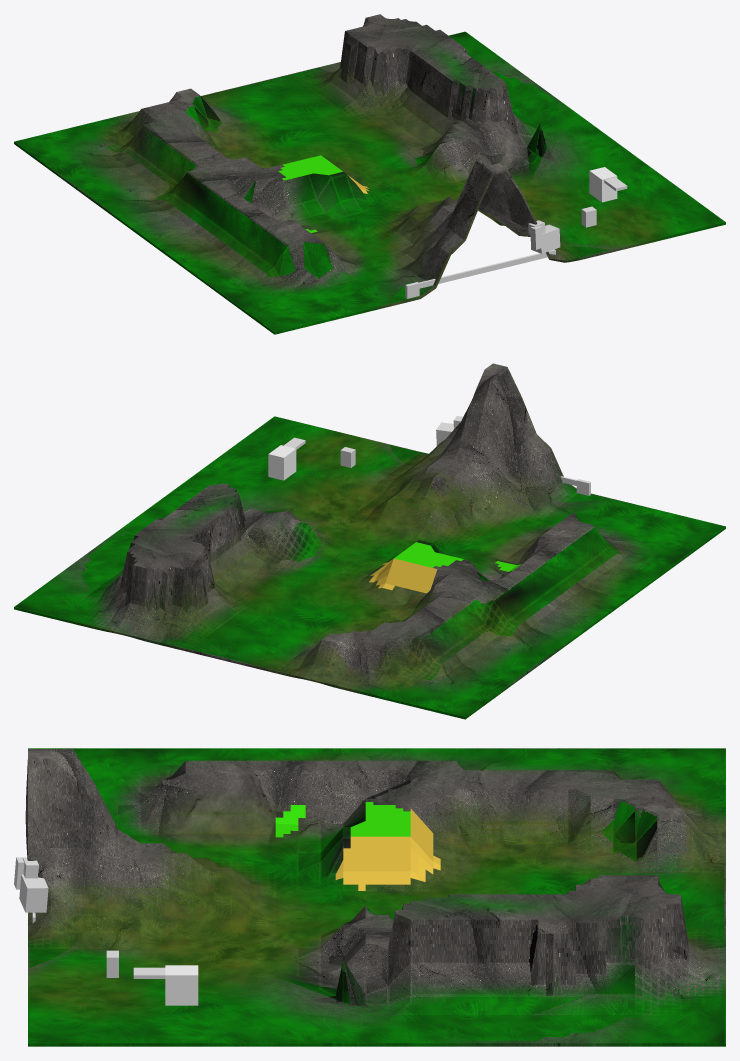
Rendered from tiktakworld.glb.
3 renders of one model, top to bottom at view 1: azimuth 30°, elevation 25°; view 2: azimuth 150°, elevation 25°; view 3: azimuth 270°, elevation 25°, orthographic. The views are drawn at different scales.
Parts seen in each view (by area): view 1: Plan, Cube.004, Cube.005; view 2: Plan, Cube.005; view 3: Plan, Cube.005, Cube.001.
Boxes of the visible parts, left/top/right/bottom form: Plan: left=14, top=14, right=725, bottom=334; Cube.004: left=419, top=249, right=555, bottom=288; Cube.005: left=589, top=167, right=617, bottom=202; Plan: left=14, top=363, right=725, bottom=719; Cube.005: left=268, top=445, right=296, bottom=480; Plan: left=25, top=748, right=725, bottom=1046; Cube.005: left=165, top=965, right=198, bottom=1005; Cube.001: left=19, top=874, right=48, bottom=912.
Size of the model in its own units: 200 by 45.96 by 204.
Materials: 4 (1 with a texture image).
